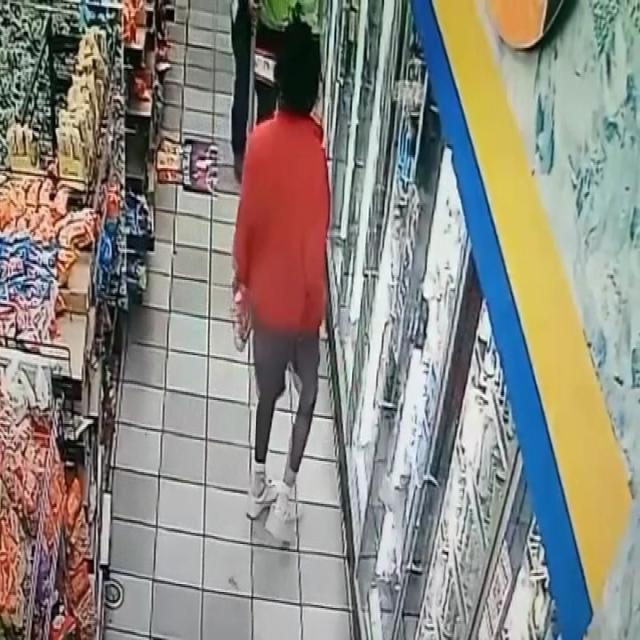normal: (238, 0, 358, 529)
